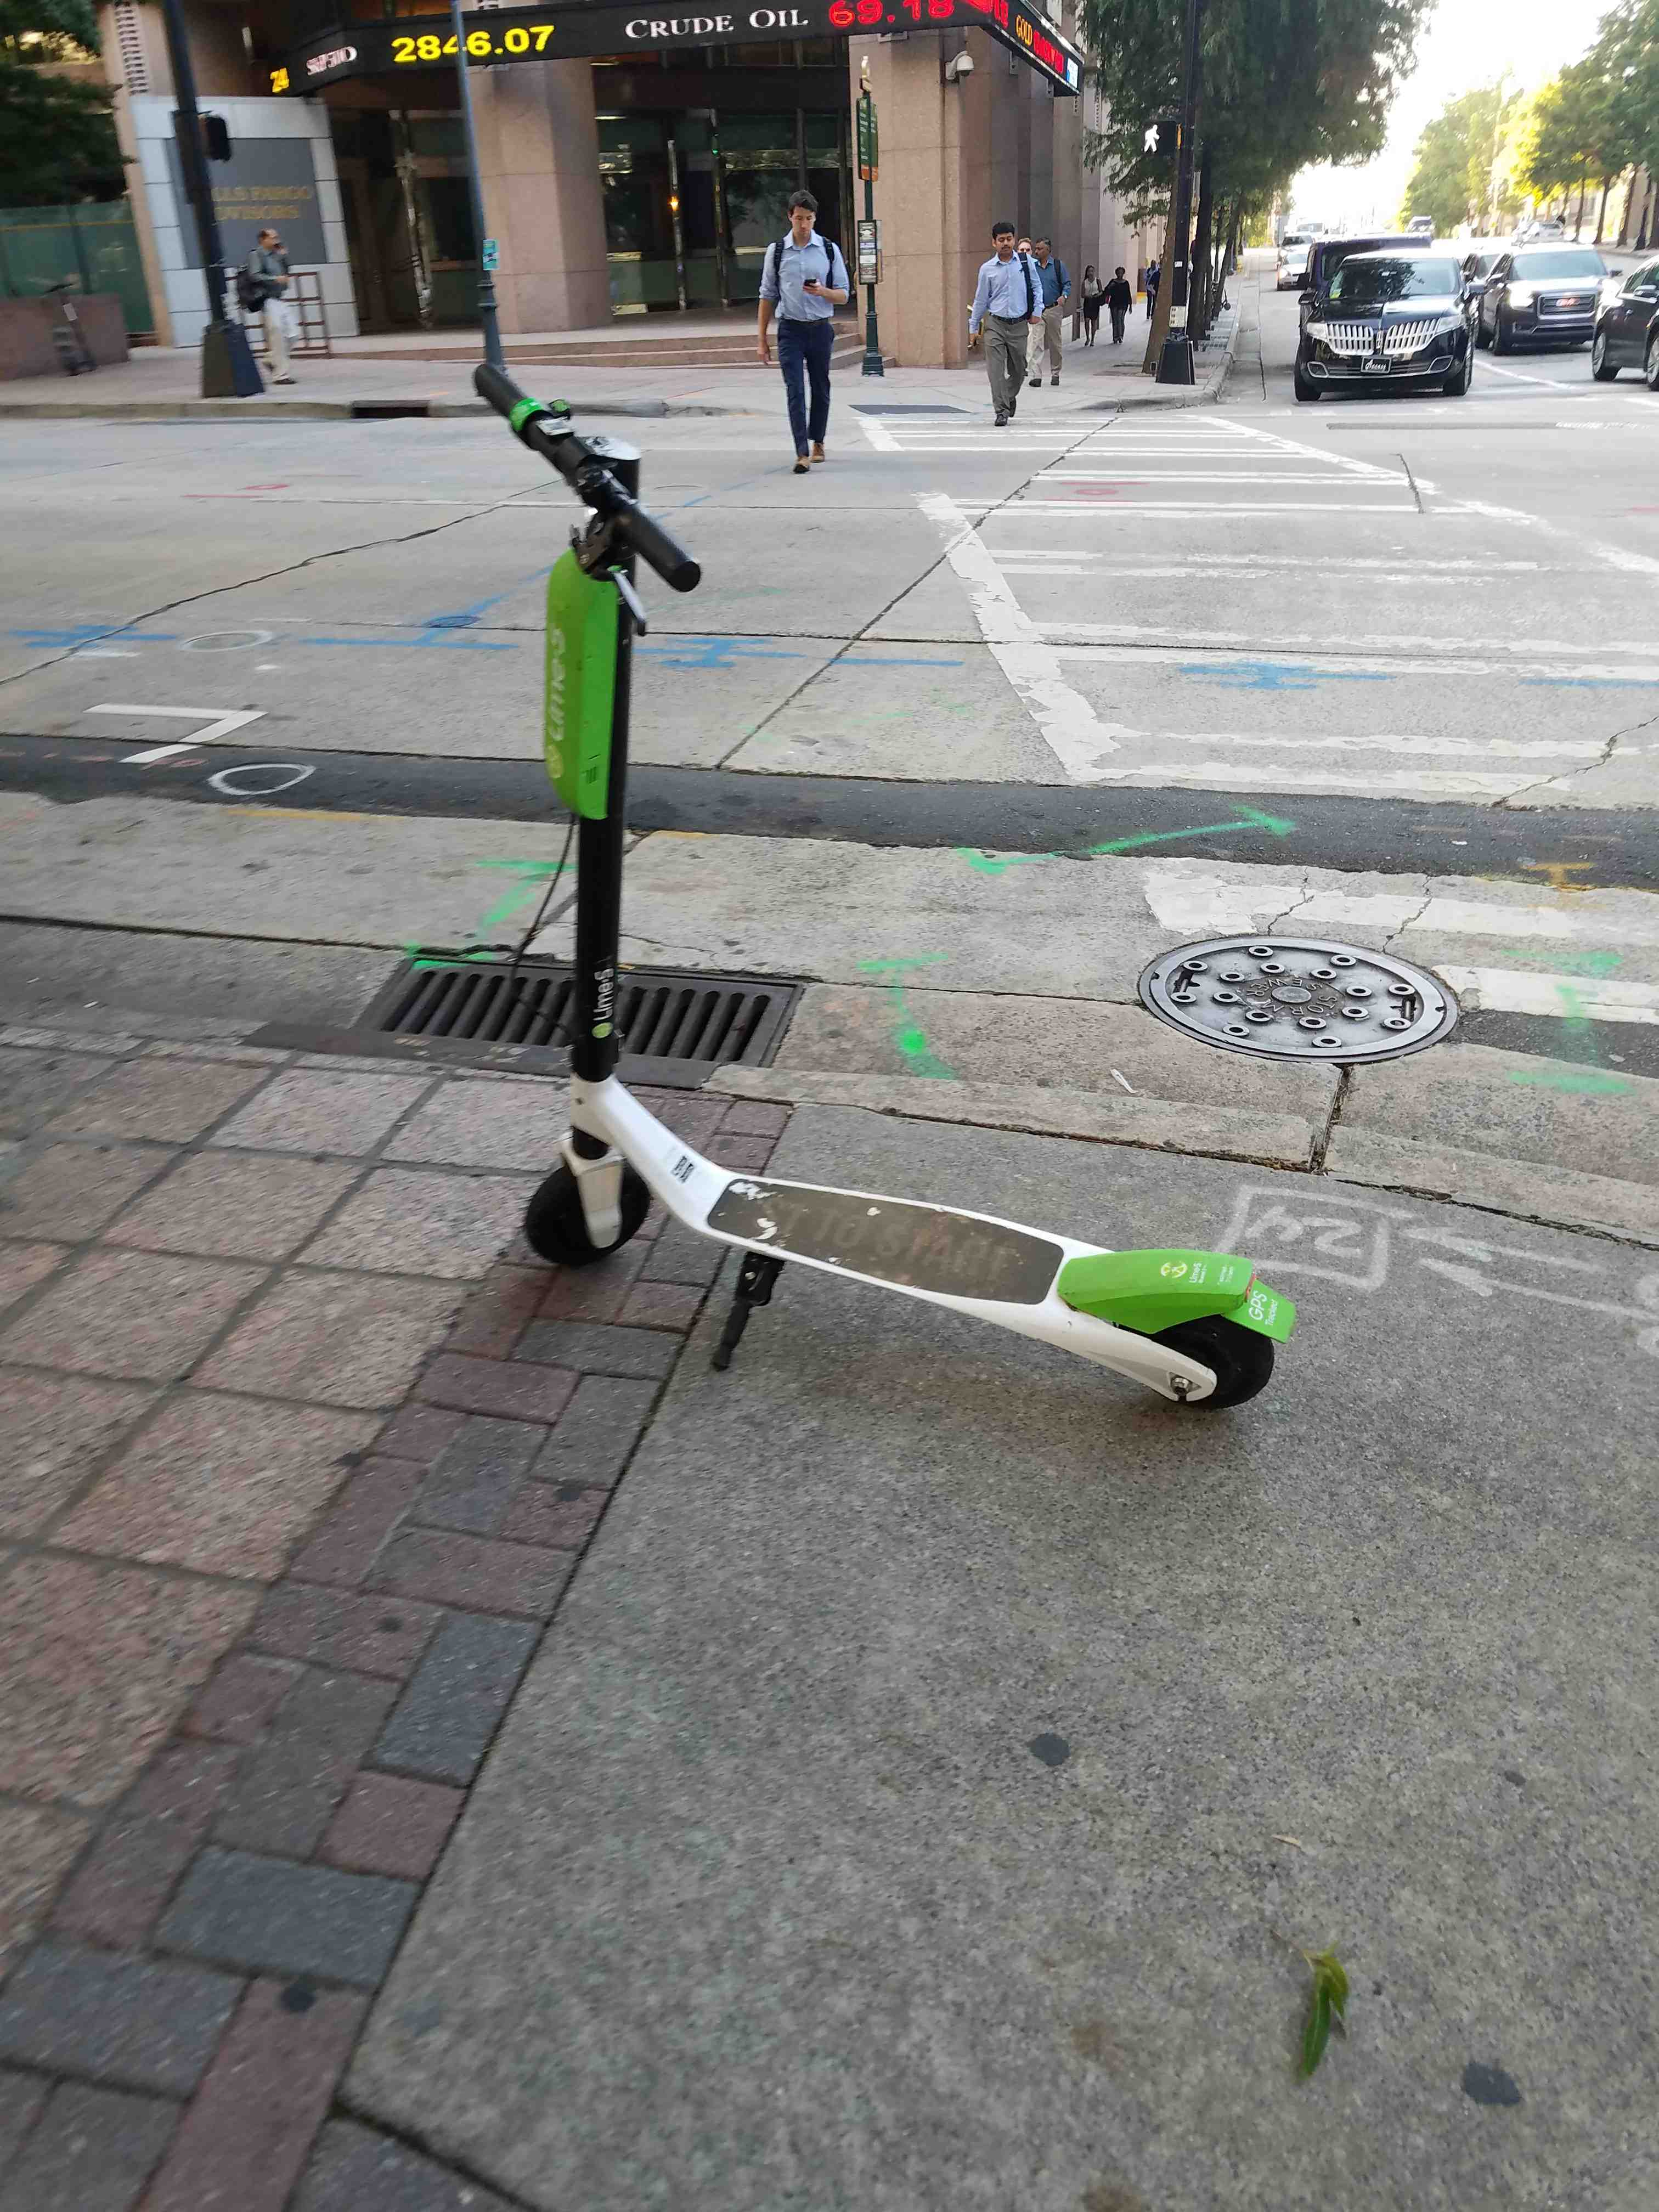scooter: (408, 354, 1298, 1409)
